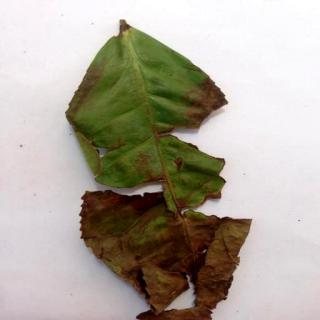Algal Leaf: (70, 19, 251, 320)
